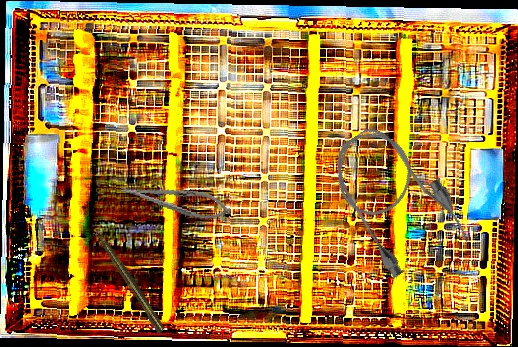Cannula: (316, 110, 477, 287)
Handpiece: (91, 227, 168, 336)
Needle Holder: (118, 174, 233, 226)
